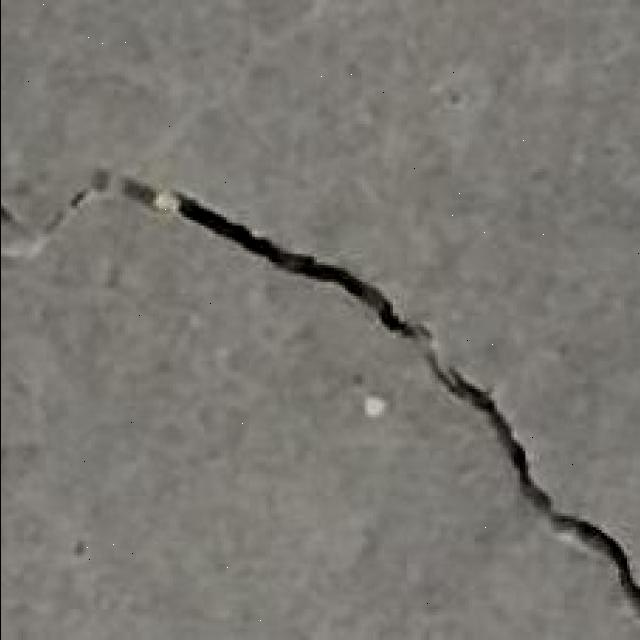crack: (113, 181, 628, 618), (37, 169, 409, 350), (2, 171, 173, 528), (7, 169, 177, 267)
